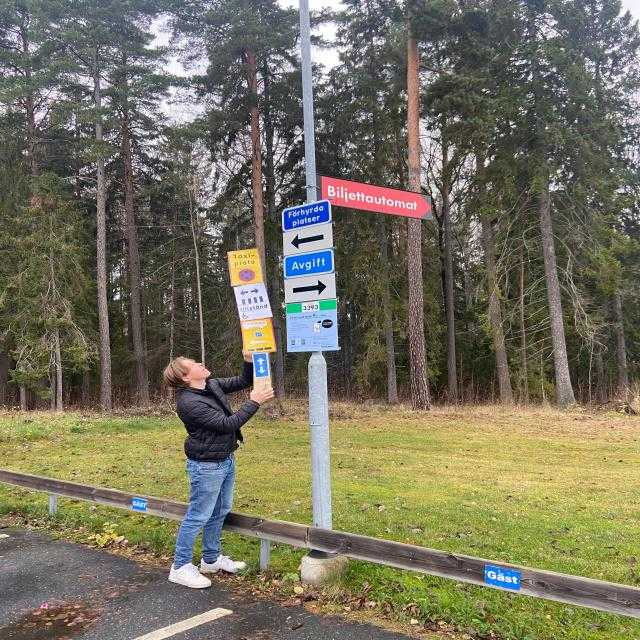lastplats: (224, 249, 264, 287)
